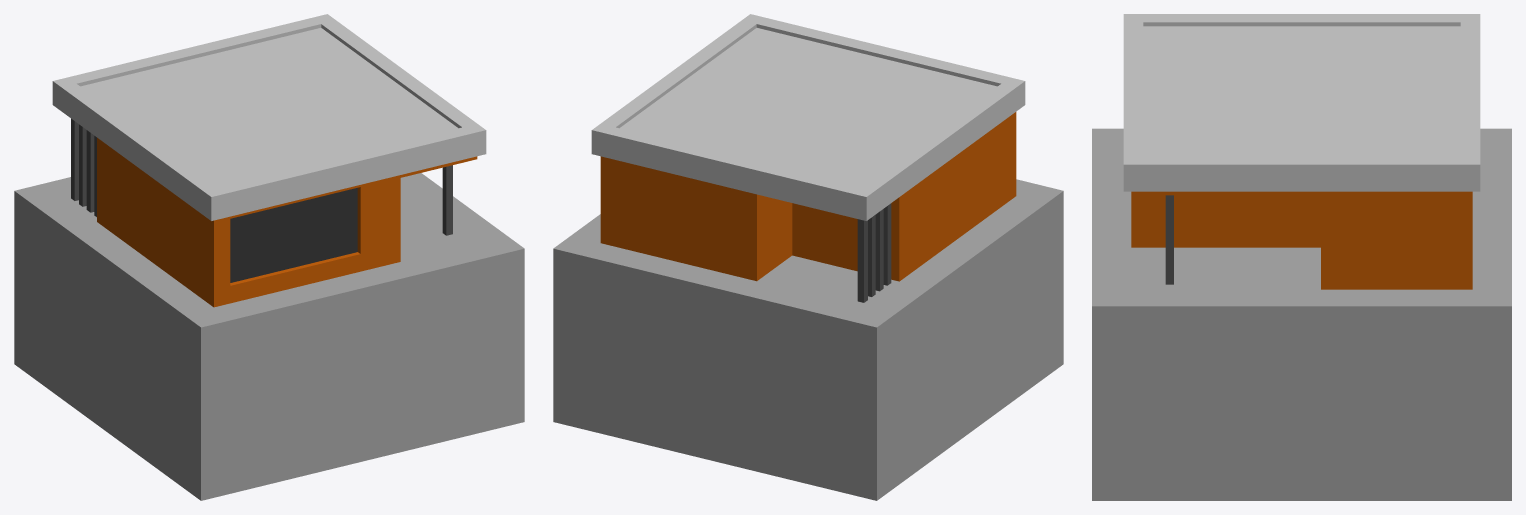
Rendered from Leisure.fbx.
3 views of the same model, side by side, from view 1: azimuth 30°, elevation 25°; view 2: azimuth 150°, elevation 25°; view 3: azimuth 270°, elevation 25° (orthographic). The views are drawn at different scales.
Parts seen in each view (by area): view 1: pCube88, roof, building, window, pCube94, pCube102, pCube100, pCube101; view 2: pCube88, roof, building, pCube100, pCube103, pCube102, pCube101; view 3: pCube88, roof, building, pCube94.
Part boxes in pixels (x1,y1,x2,y2): pCube88: [14, 173, 524, 500]; roof: [52, 14, 486, 220]; building: [97, 137, 477, 307]; window: [230, 188, 357, 282]; pCube94: [442, 165, 452, 235]; pCube102: [86, 130, 94, 212]; pCube100: [71, 118, 78, 200]; pCube101: [79, 124, 86, 206]; pCube88: [553, 179, 1063, 500]; roof: [591, 14, 1025, 220]; building: [600, 112, 1016, 281]; pCube100: [857, 219, 867, 302]; pCube103: [883, 203, 891, 285]; pCube102: [875, 209, 883, 291]; pCube101: [868, 215, 875, 296]; pCube88: [1092, 128, 1511, 500]; roof: [1123, 14, 1480, 191]; building: [1131, 191, 1472, 289]; pCube94: [1165, 195, 1173, 284].
Size of the model in its own units: 1 by 0.8491 by 1.
